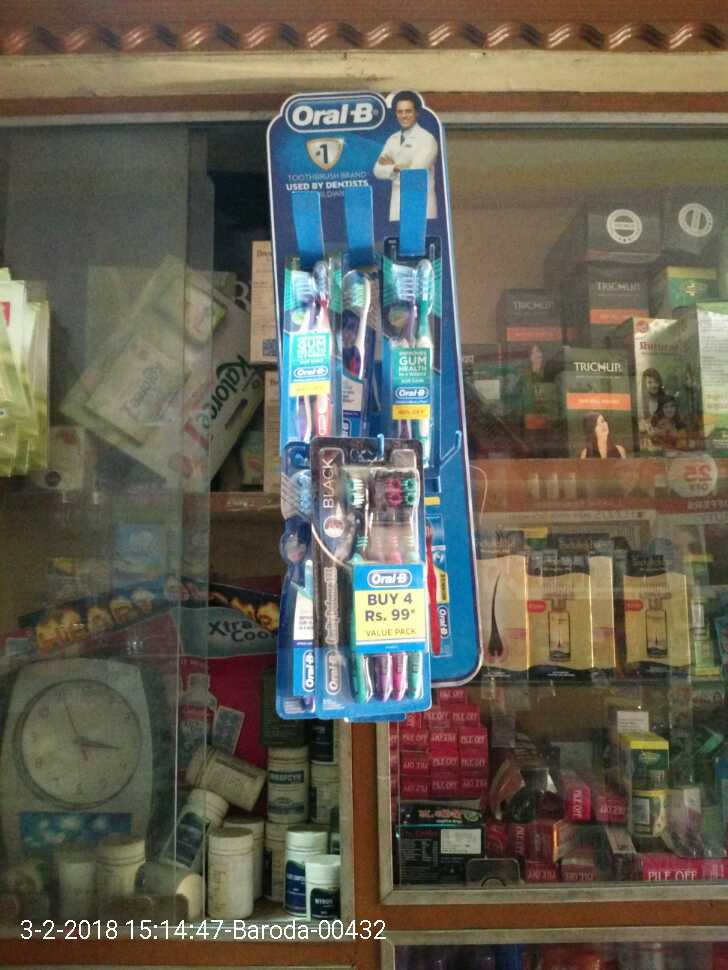oralb: (280, 260, 474, 714)
